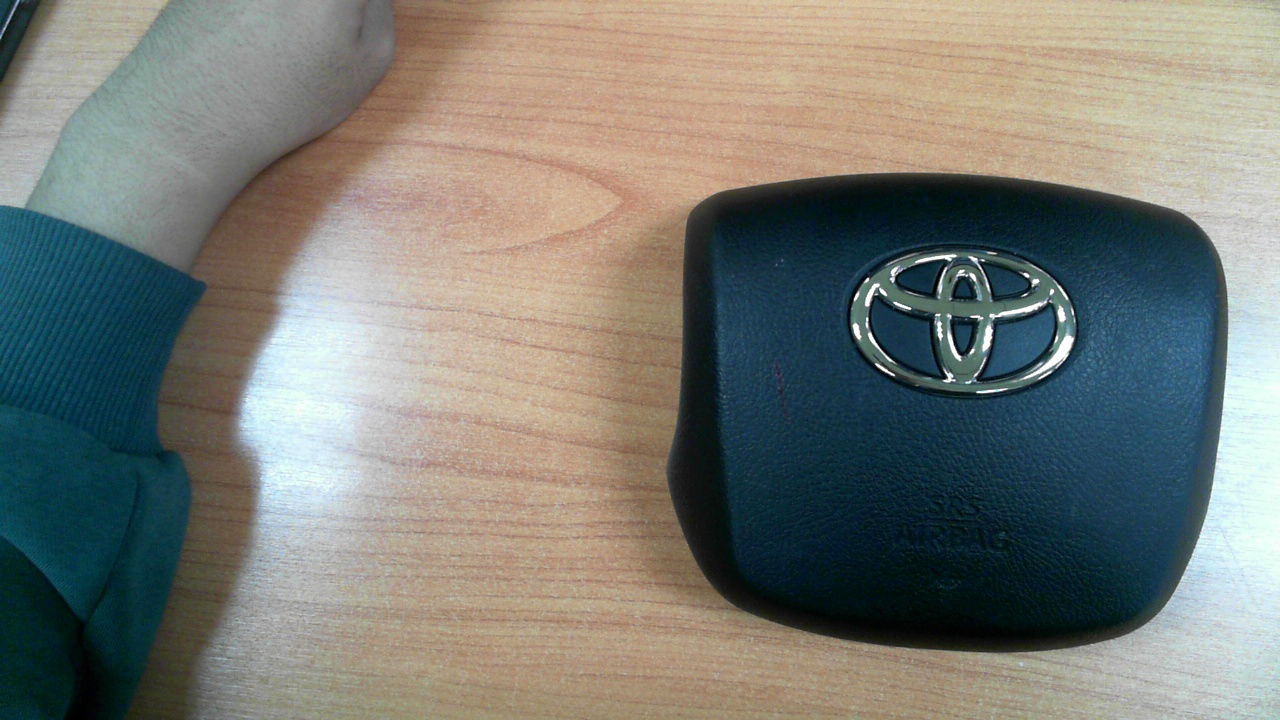Airbag: (668, 170, 1227, 653)
Toyota: (849, 243, 1077, 395)
